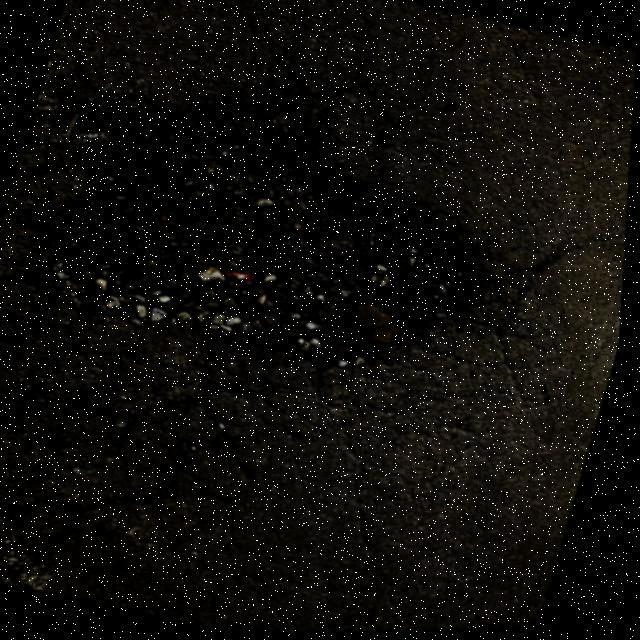pothole: (6, 54, 556, 422)
